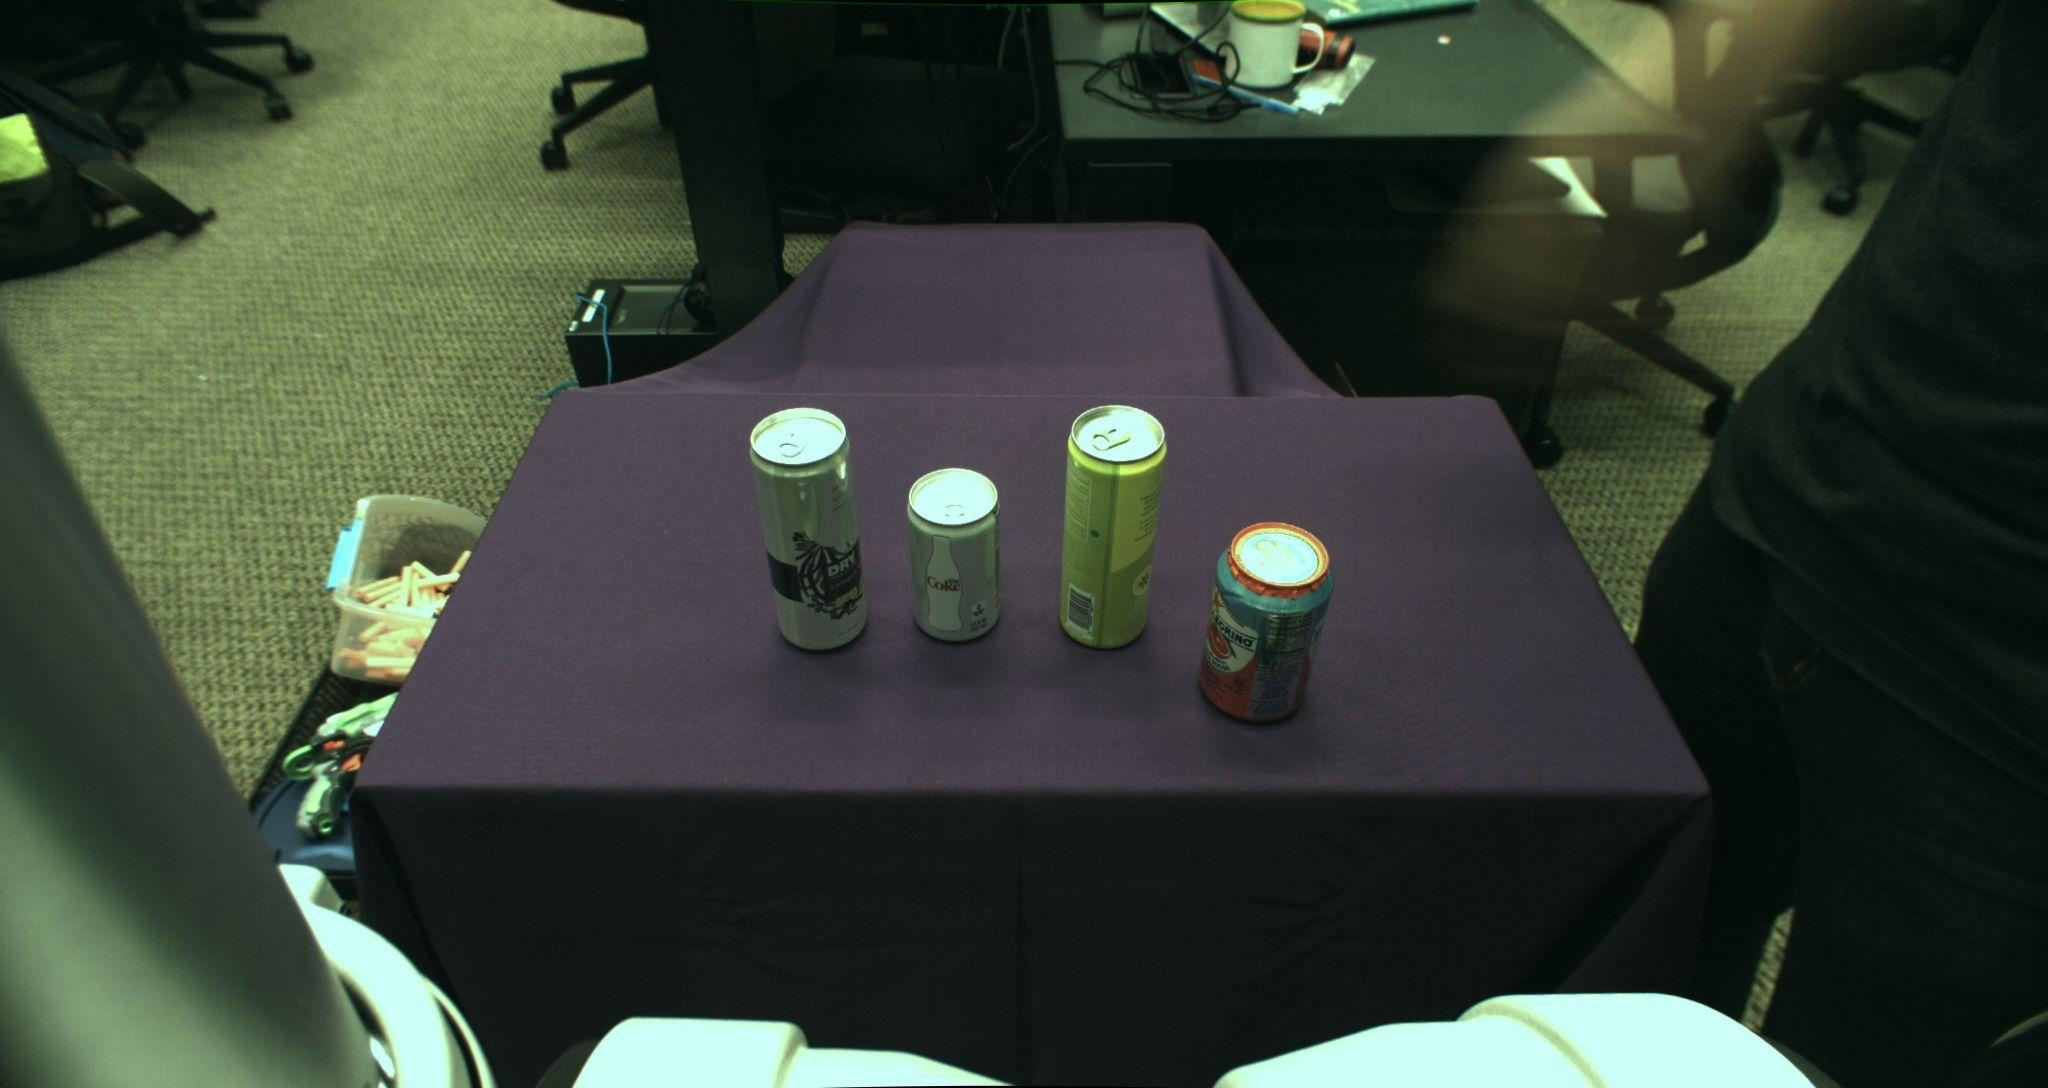can_diet_coke_small: (905, 467, 1001, 644)
can_dry_sparkling_vanilla_bean: (748, 406, 870, 650)
can_izze_fusions_lemon_lime: (1058, 404, 1168, 649)
can_sanpellegrino_blood_orange: (1197, 522, 1331, 722)
